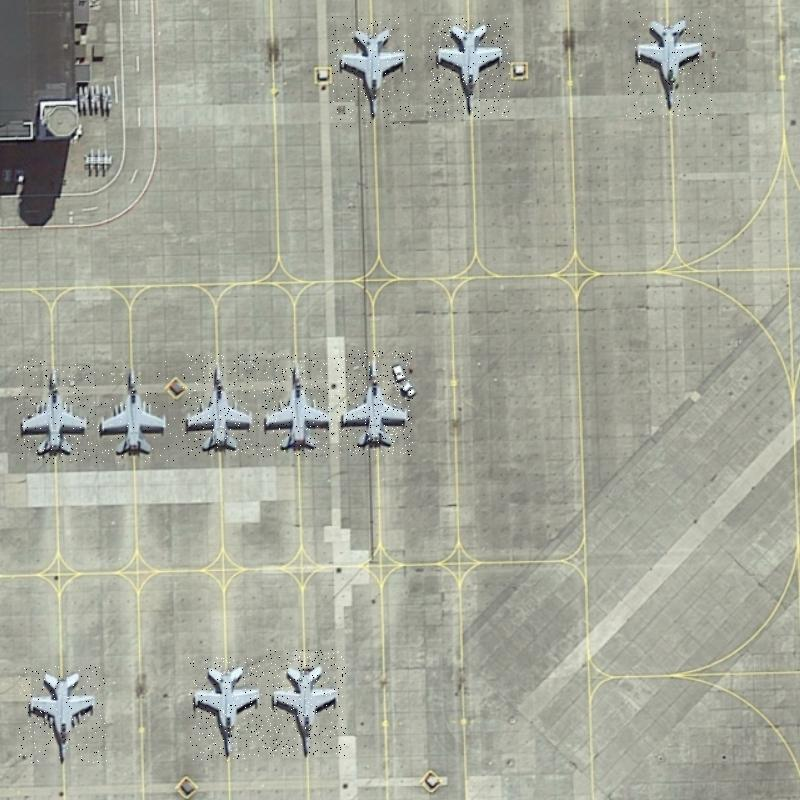A16: (625, 12, 717, 119), (330, 17, 414, 127), (19, 664, 107, 763), (265, 649, 346, 756), (15, 359, 97, 464), (97, 358, 177, 463), (336, 350, 413, 457), (429, 18, 510, 118), (261, 353, 337, 458), (188, 657, 264, 761), (182, 354, 259, 456)
